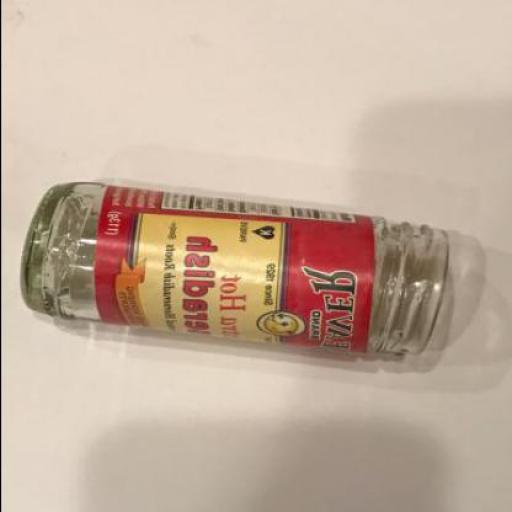glass: (17, 182, 449, 355)
